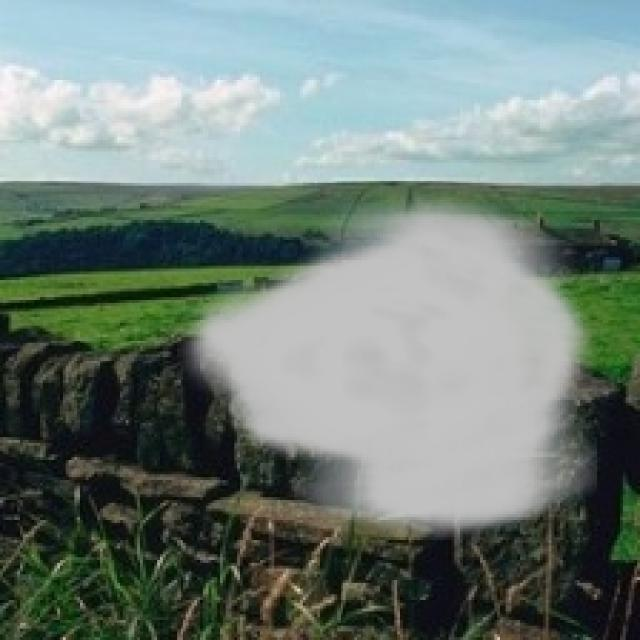Smoke: (177, 188, 597, 540)
